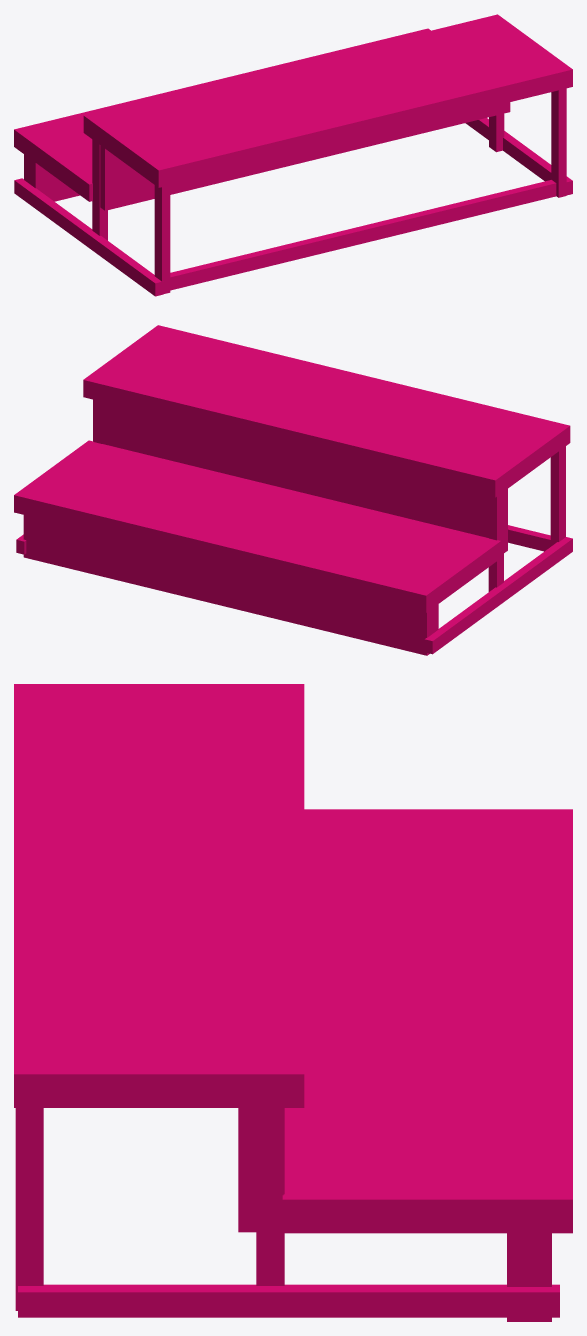
Rendered from Metal_Stairs_06B.fbx.
3 renders of one model, top to bottom at view 1: azimuth 30°, elevation 25°; view 2: azimuth 150°, elevation 25°; view 3: azimuth 270°, elevation 25°, orthographic. The views are drawn at different scales.
Parts seen in each view (by area): view 1: Metal_Stairs_06B; view 2: Metal_Stairs_06B; view 3: Metal_Stairs_06B.
Part boxes in pixels (bbox=[...]): Metal_Stairs_06B: bbox=[14, 14, 572, 296]; Metal_Stairs_06B: bbox=[14, 325, 572, 655]; Metal_Stairs_06B: bbox=[14, 684, 572, 1321].
Bounding box in the file's own units: 114 × 33.98 × 68.38.
